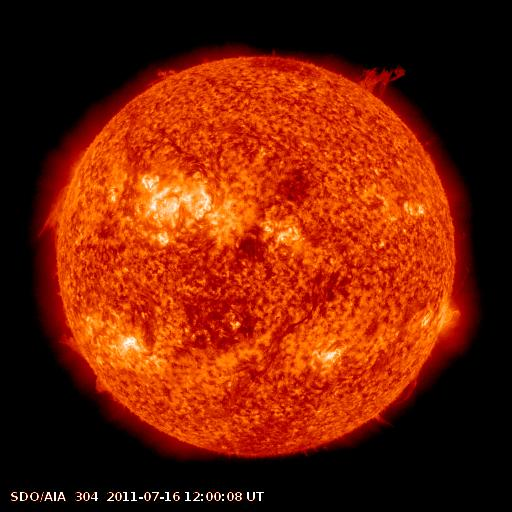prominence: (369, 374, 421, 434), (355, 57, 406, 106), (35, 180, 74, 244), (138, 63, 192, 96), (56, 320, 90, 355), (84, 369, 116, 401)
